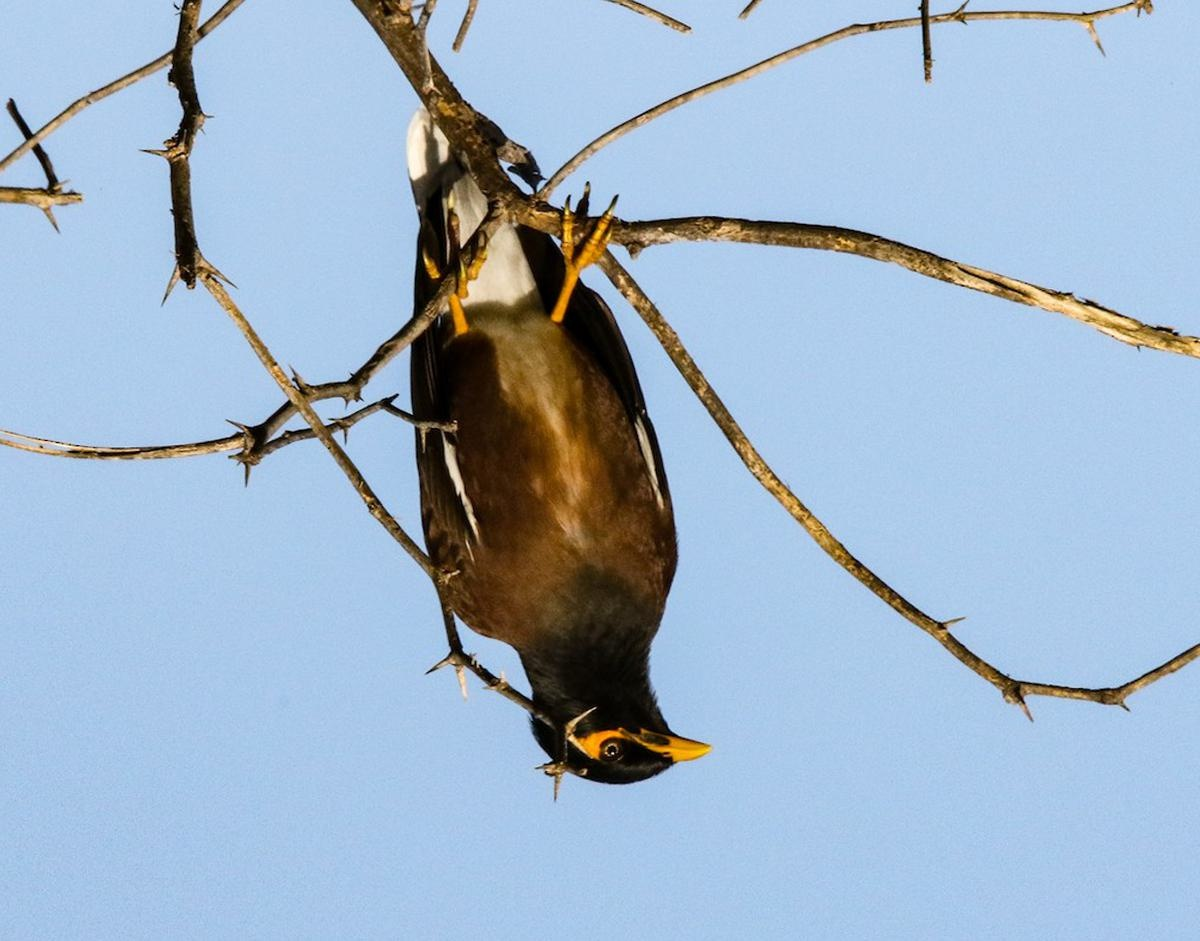myna: (355, 123, 736, 842)
